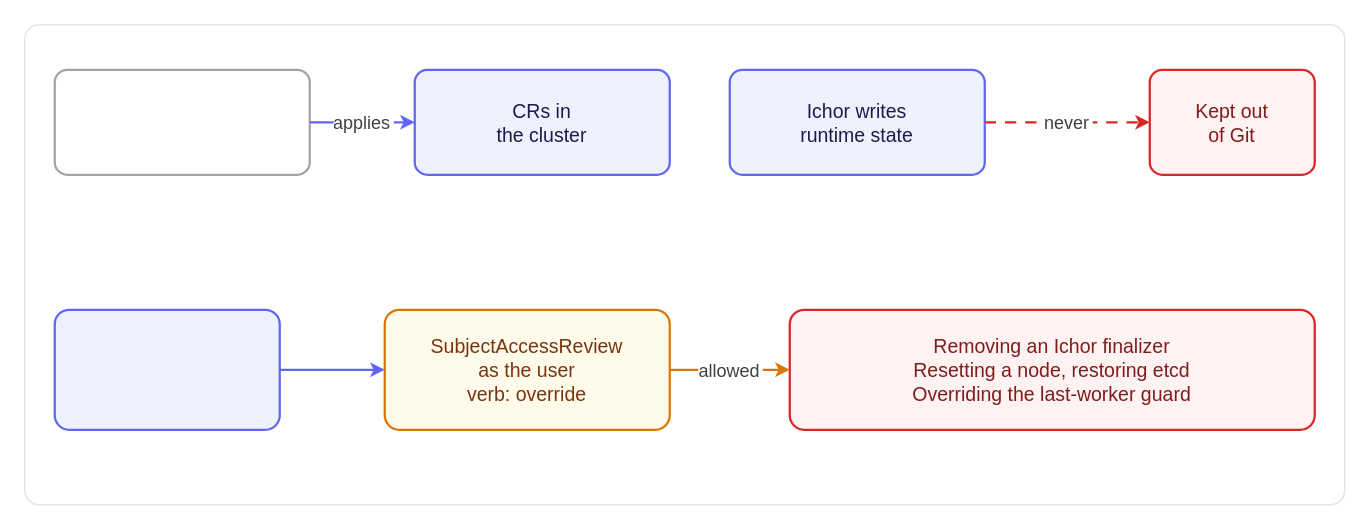
The diagram is 1370 pixels wide and 530 high, and some of its shapes have lost their labels. The shapes that lost their labels are listed below. From the top down, each one's centre as x and y in pixels, then its label:
At point 181,121: "Your Git and your tool".
At point 166,369: "UI or CLI request".
